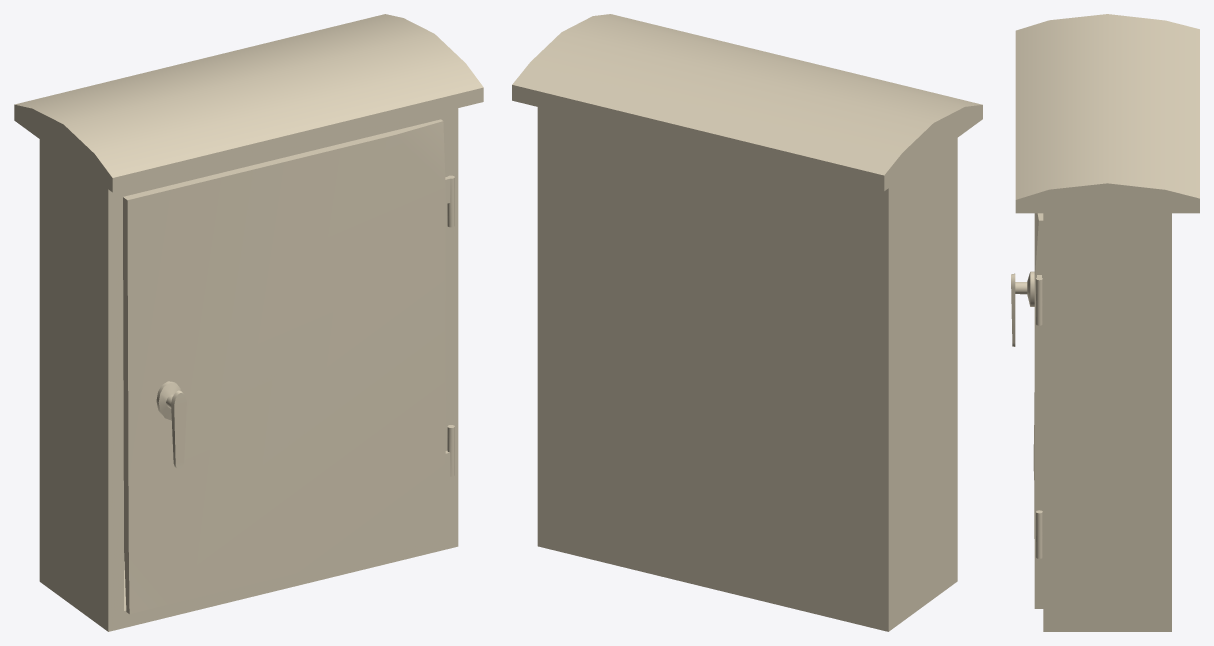
Rendered from Electric_Box_B_Snaps004.FBX.
3 renders of one model, left to right at view 1: azimuth 30°, elevation 25°; view 2: azimuth 150°, elevation 25°; view 3: azimuth 270°, elevation 25°, orthographic. The views are drawn at different scales.
Visible parts, largest first — view 1: Geometry_Electric_Box_B_LOD00; view 2: Geometry_Electric_Box_B_LOD00; view 3: Geometry_Electric_Box_B_LOD00.
Part boxes in pixels (x1=…): Geometry_Electric_Box_B_LOD00: x1=14, y1=14, x2=483, y2=631; Geometry_Electric_Box_B_LOD00: x1=512, y1=14, x2=982, y2=631; Geometry_Electric_Box_B_LOD00: x1=1011, y1=14, x2=1199, y2=631.
Size of what is drawn, in the model's own units: 56.06 by 70 by 26.4.
